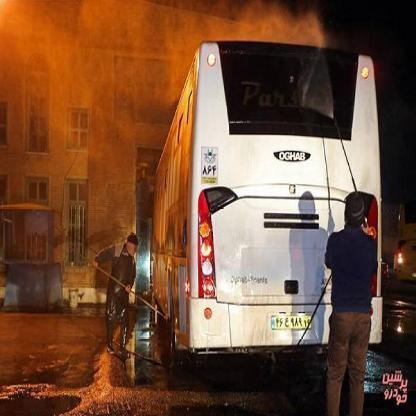Bus: (147, 31, 381, 378)
